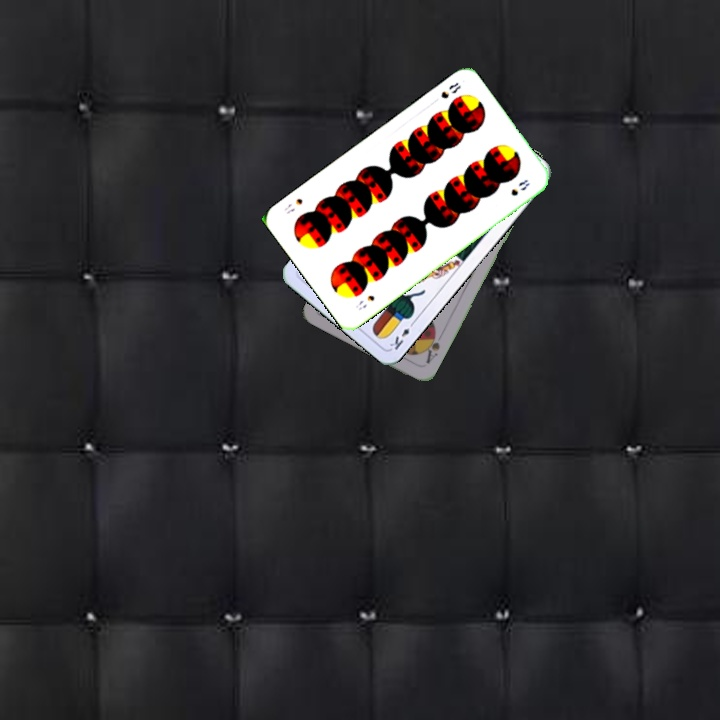EK: (385, 317, 418, 353)
S8: (437, 78, 464, 101), (351, 291, 377, 313)
SA: (420, 327, 443, 366)
